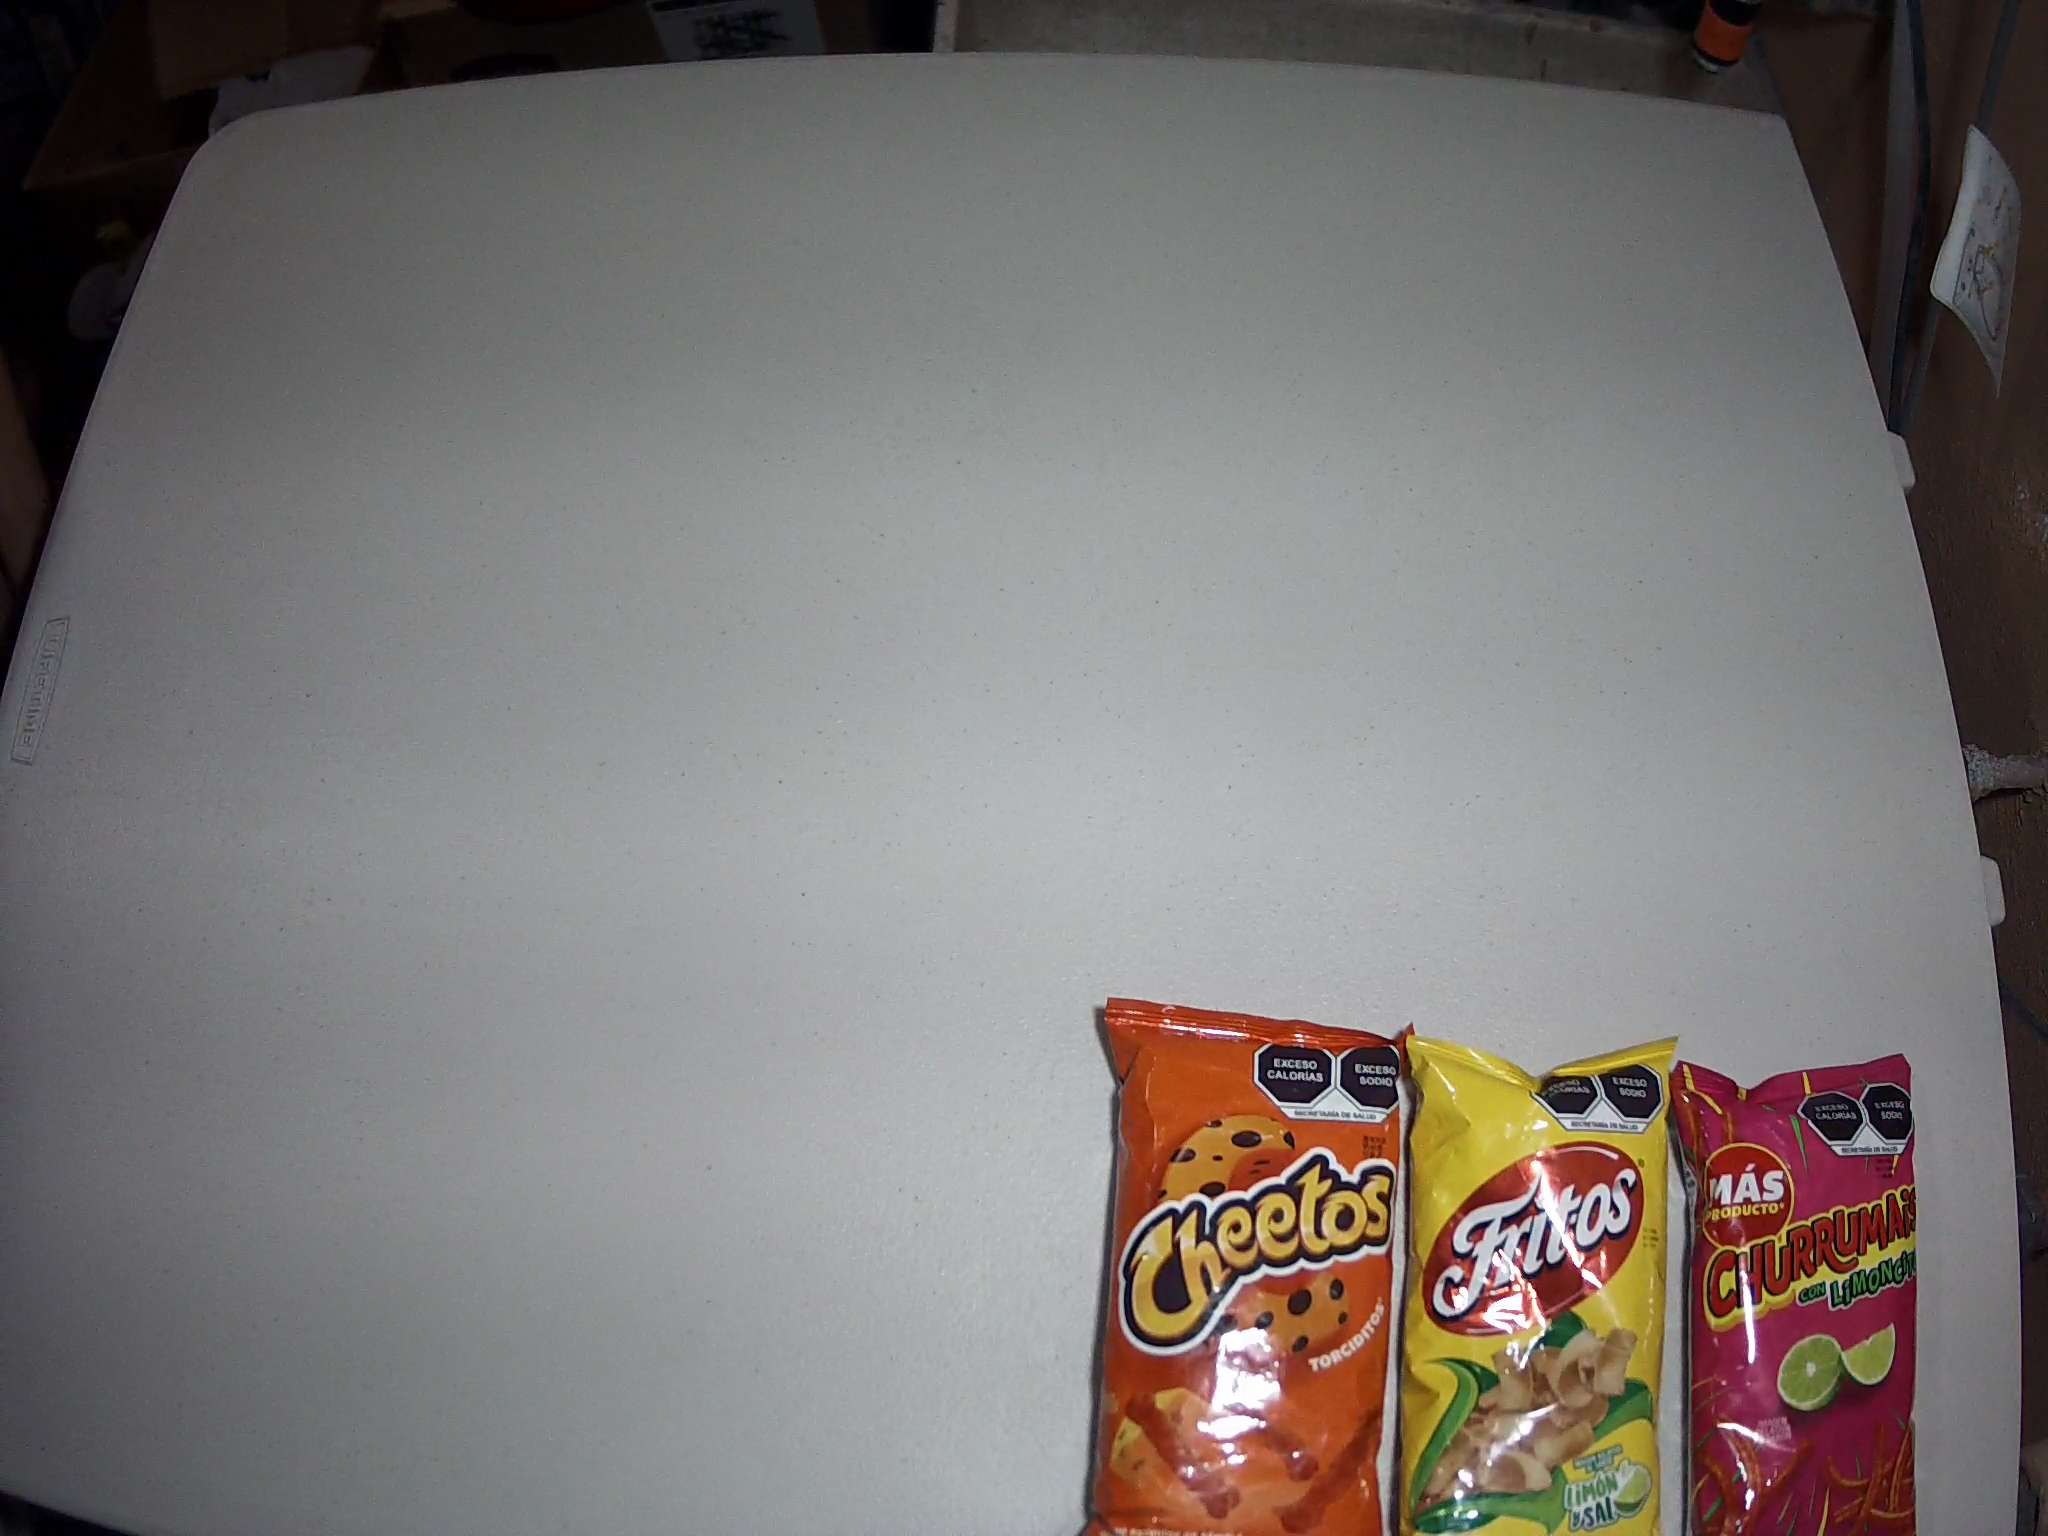CheetosTorciditos_55_F: (1080, 995, 1421, 1536)
Churrumais_70_F: (1659, 1054, 1922, 1536)
FritosSalLimon_65_F: (1390, 1031, 1677, 1536)
